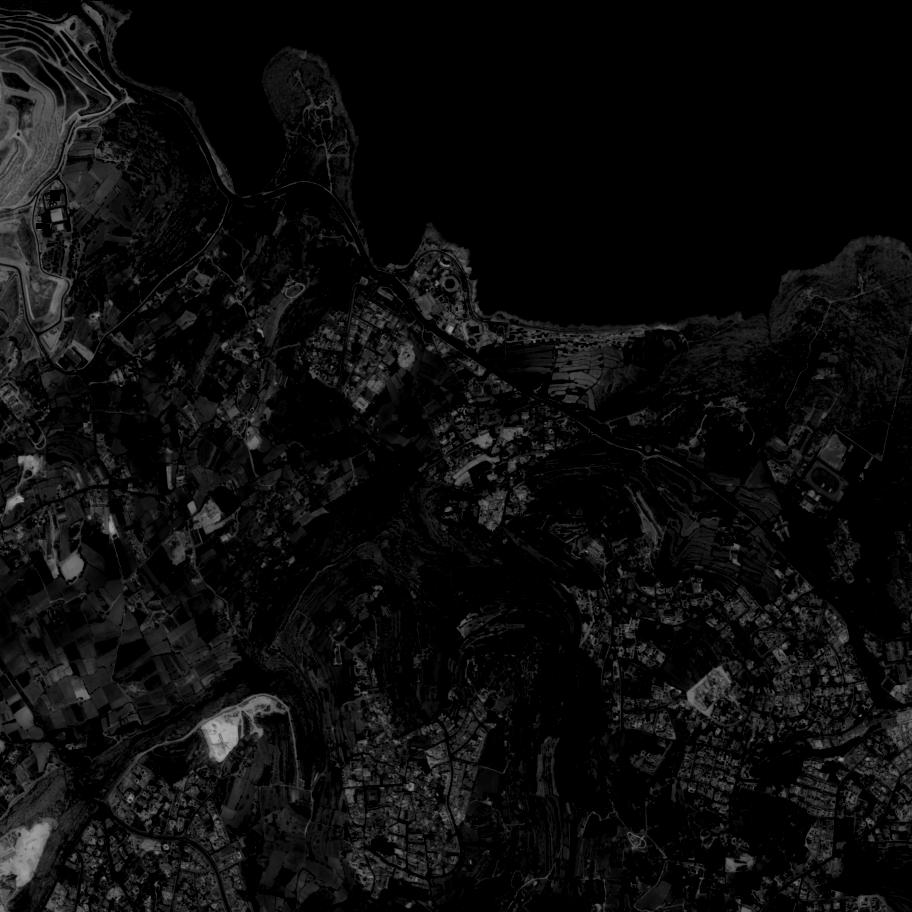storage-tank: (50, 190, 62, 202), (45, 192, 54, 201), (43, 224, 51, 232), (37, 223, 42, 229)
